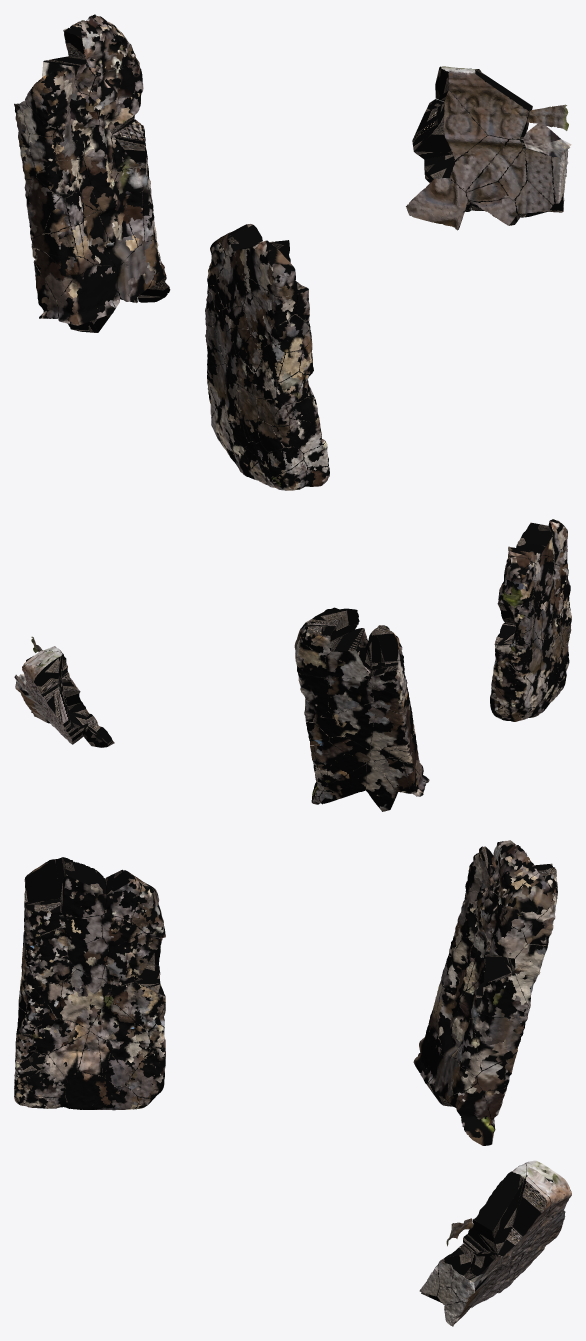
Rendered from Shatters.fbx.
The picture shows the model from 3 angles, top to bottom: view 1: azimuth 30°, elevation 25°; view 2: azimuth 150°, elevation 25°; view 3: azimuth 270°, elevation 25°; orthographic projection. The views are drawn at different scales.
Parts seen in each view (by area): view 1: texturedMesh.002_cell.001; view 2: texturedMesh.002_cell.001; view 3: texturedMesh.002_cell.001.
Boxes of the visible parts, x1=… form: texturedMesh.002_cell.001: x1=14, y1=14, x2=571, y2=490; texturedMesh.002_cell.001: x1=14, y1=519, x2=571, y2=811; texturedMesh.002_cell.001: x1=14, y1=840, x2=571, y2=1326.
Size of the model in its own units: 282 by 143 by 257.
